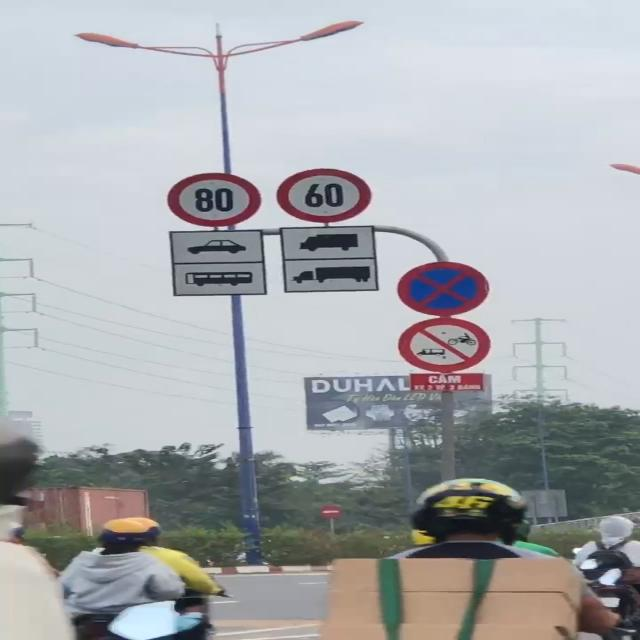Bien bao cam dung xe va do xe: (394, 259, 488, 317)
Bien bao toc do toi da cho phep: (276, 168, 373, 225), (168, 171, 260, 228)
